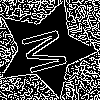M: (20, 24, 78, 77)
